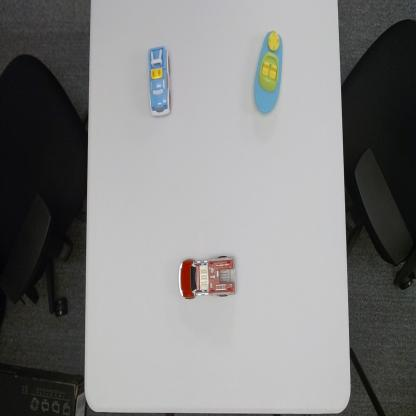Boat: (253, 28, 284, 116)
Car: (147, 43, 172, 118)
Firetruck: (177, 253, 238, 302)
